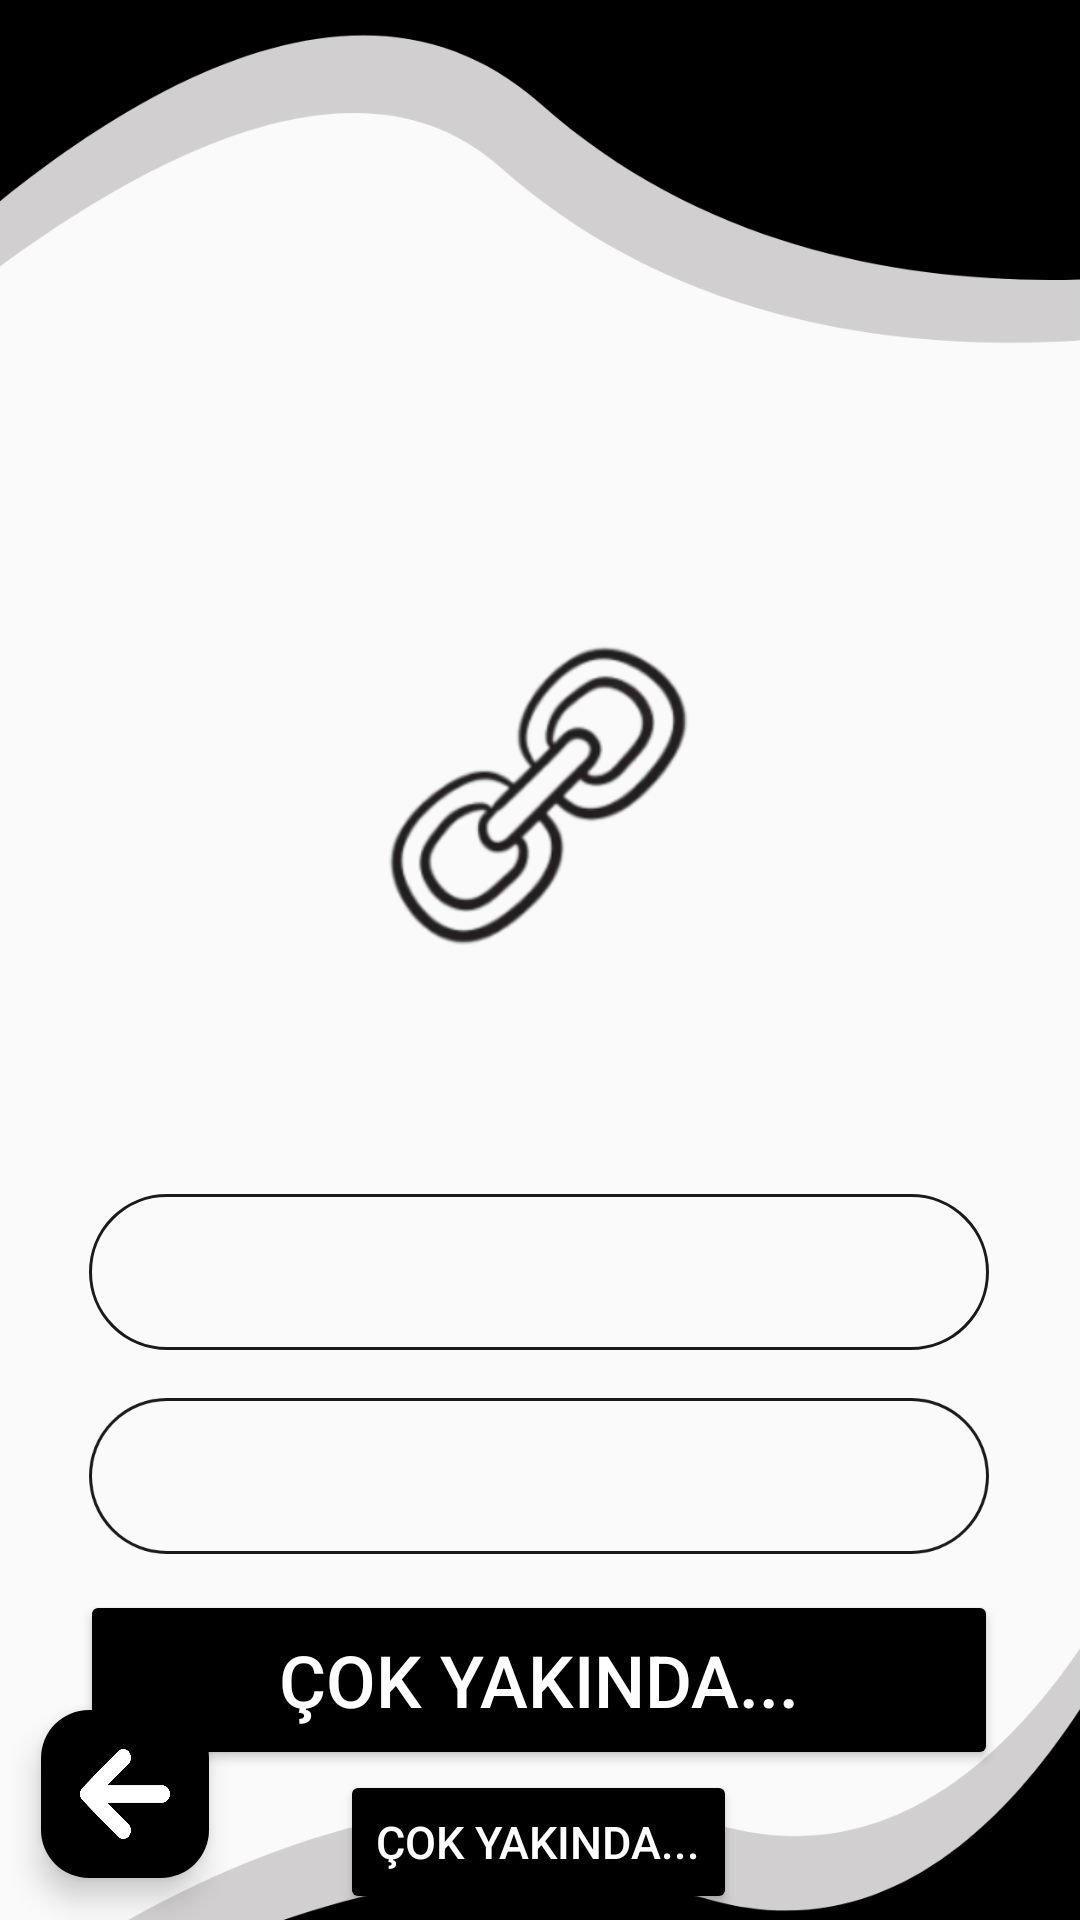

Icons on this 1080 × 1920 Android screen, each with the point to tap as [x,y]:
back: [125,1794]
chainyeni: [538,795]
